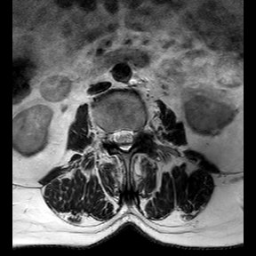CCS_normal: (120, 117, 128, 159)
LFS_stenosis: (136, 116, 143, 141)
LLS_normal: (128, 119, 136, 152)
RFS_normal: (104, 120, 112, 149)
RLS_normal: (112, 119, 120, 152)
